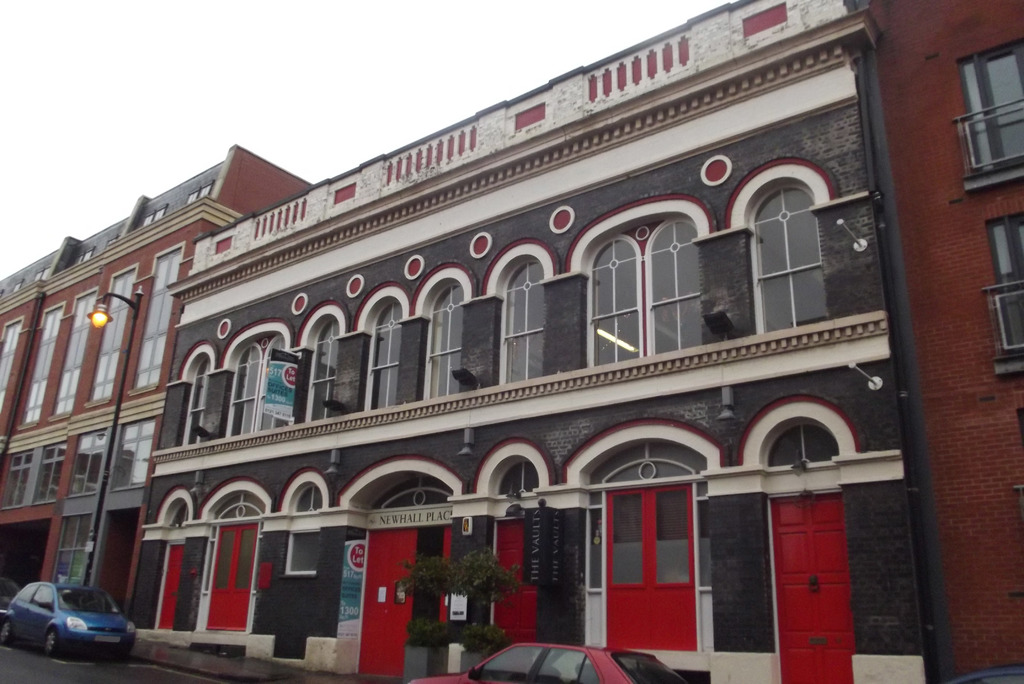mobil: (10, 577, 145, 665)
